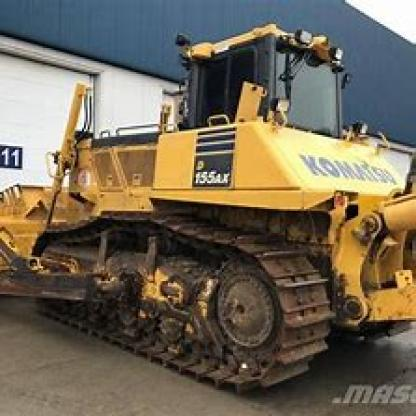bull_dozer/loader/grader: (0, 22, 414, 390)
